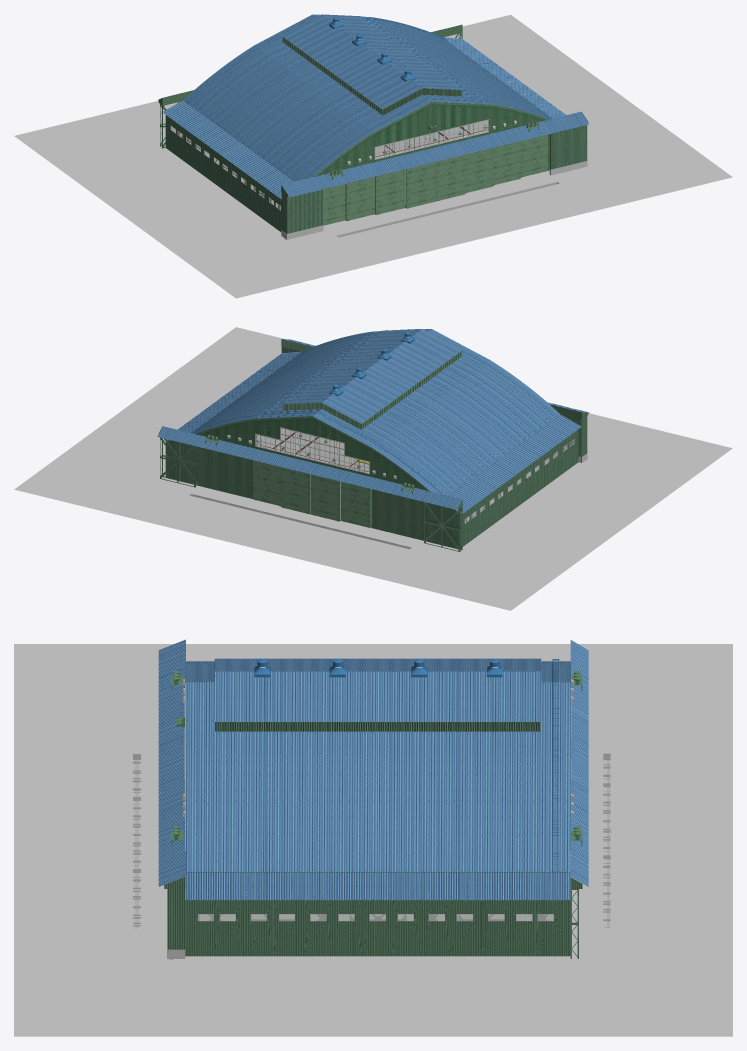
File: sdf_hanger.fbx
3 renders of one model, top to bottom at view 1: azimuth 30°, elevation 25°; view 2: azimuth 150°, elevation 25°; view 3: azimuth 270°, elevation 25°, orthographic. The views are drawn at different scales.
Parts seen in each view (by area): view 1: base, roof_l, main, roof_r, door_bag, f_door_r4, f_door_l4, f_door_l3, f_door_l2, f_door_r3, f_door_r2, f_door_r1 (+3 smaller); view 2: base, main, roof_l, roof_r, grass, b_door_r2, b_door_l2, b_door_r1, b_door_l1, bone, door_bag; view 3: base, roof_r, main, roof_l, door_bag, grass, roof_object.
Boxes of the visible parts, x1,y1,x2,y2 form: base: (14, 15, 732, 298); roof_l: (184, 14, 431, 181); main: (158, 24, 588, 231); roof_r: (313, 14, 552, 119); door_bag: (281, 125, 587, 239); f_door_r4: (435, 155, 465, 201); f_door_l4: (405, 162, 435, 208); f_door_l3: (375, 169, 405, 214); f_door_l2: (345, 176, 375, 220); f_door_r3: (465, 148, 493, 193); f_door_r2: (493, 141, 520, 185); f_door_r1: (520, 134, 547, 177); base: (14, 327, 732, 610); main: (157, 339, 589, 551); roof_l: (313, 329, 560, 495); roof_r: (190, 329, 430, 433); grass: (256, 429, 573, 522); b_door_r2: (310, 474, 340, 521); b_door_l2: (281, 467, 310, 514); b_door_r1: (341, 482, 371, 527); b_door_l1: (252, 460, 280, 506); bone: (168, 431, 574, 522); door_bag: (282, 347, 587, 462); base: (14, 644, 732, 1036); roof_r: (185, 671, 570, 872); main: (158, 639, 588, 958); roof_l: (185, 658, 570, 682); door_bag: (167, 889, 185, 958); grass: (198, 915, 552, 920); roof_object: (254, 658, 502, 677).
Bounding box in the file's own units: 18144 × 4041 × 14047.
